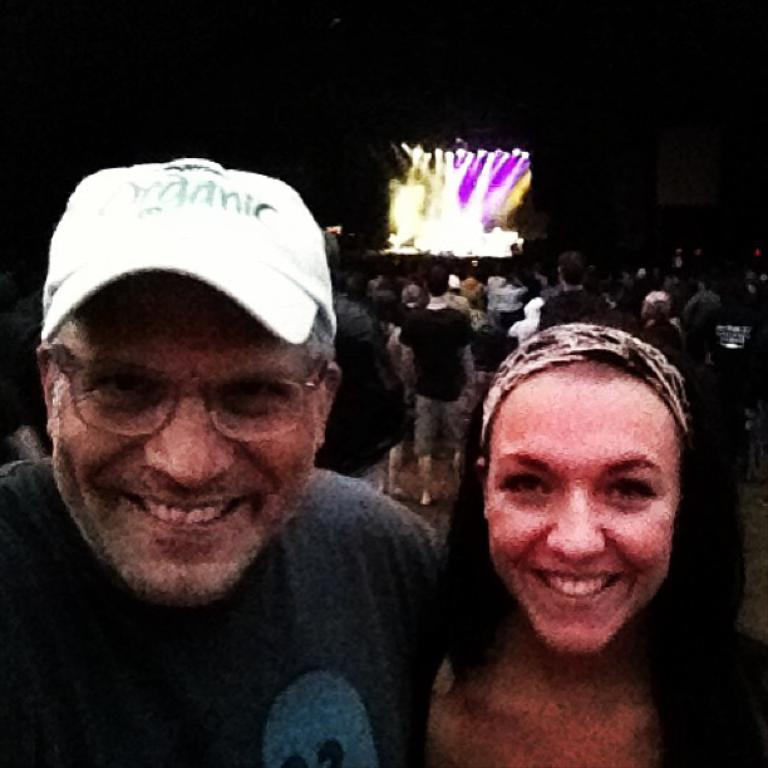Hat: (40, 159, 334, 340)
